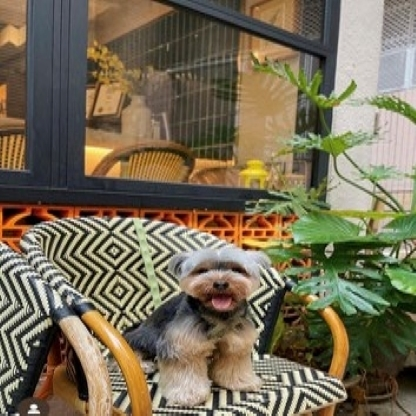yorkshire: (116, 244, 276, 404)
